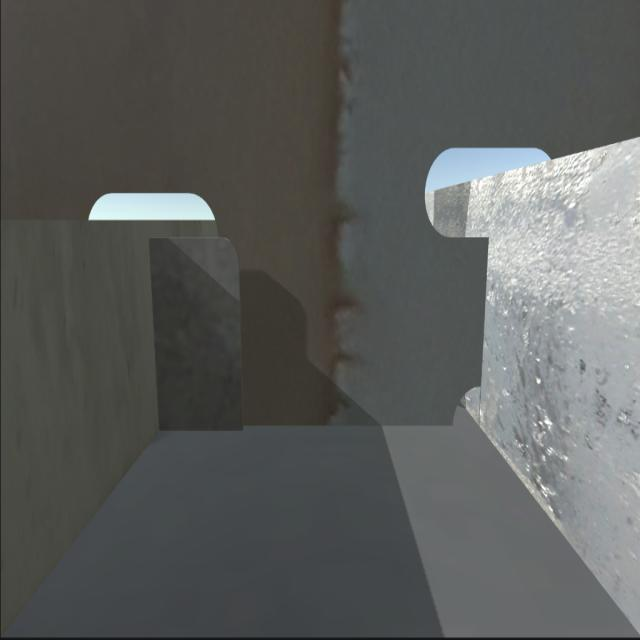fillet_hole: (439, 379, 482, 434)
fillet_yong_jeop_jang: (157, 416, 454, 438)
longi_yong_jeop_jang: (138, 240, 172, 426), (472, 236, 491, 392)
plate_CP05: (145, 234, 244, 431)
